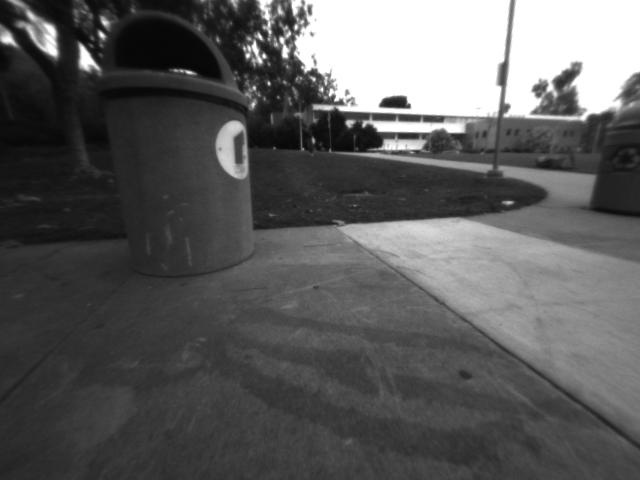trashcan: (100, 9, 263, 280)
